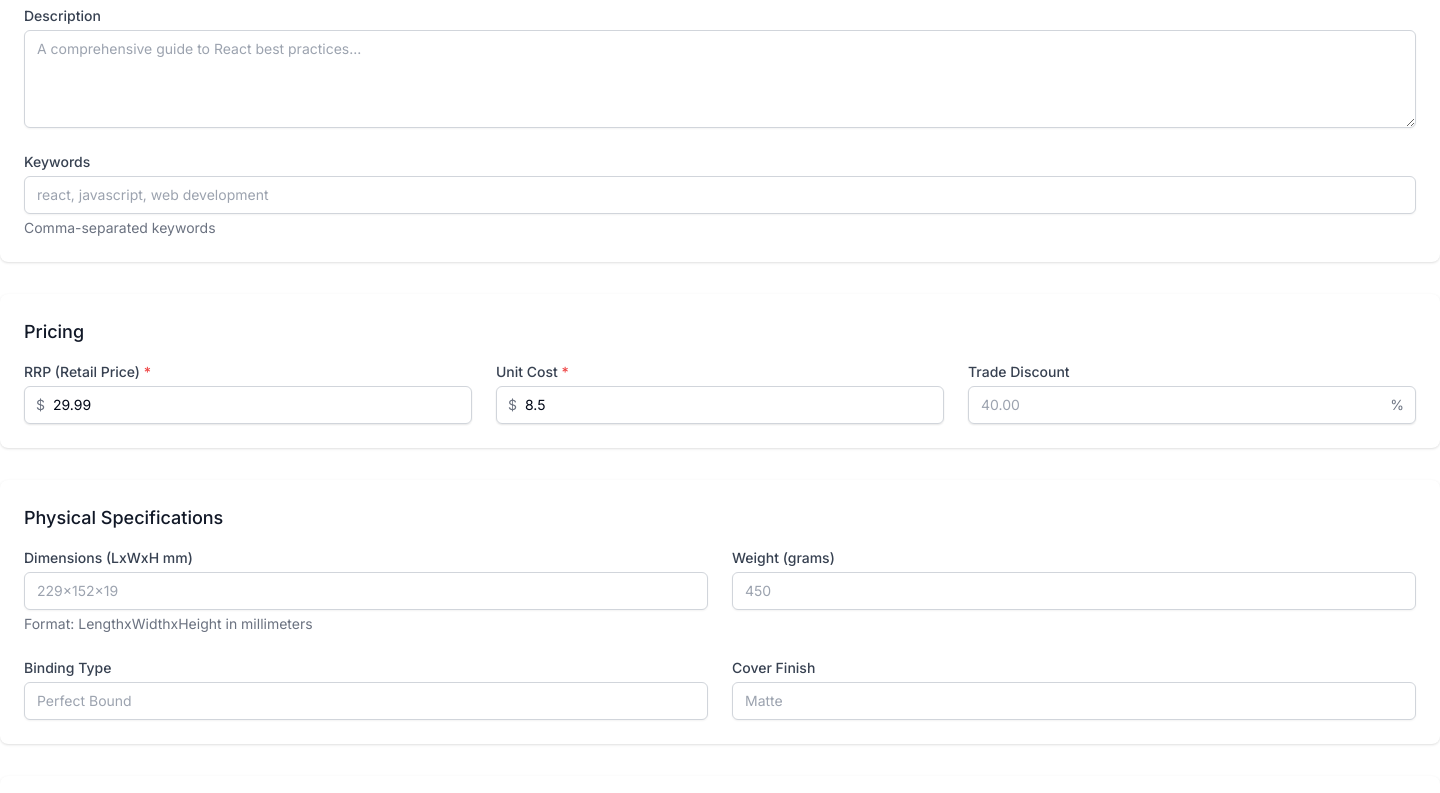
Test: TitleForm Component › Edit Mode Price Change Tracking › should show price change reason field when RRP changes
(page scrolled)
Type "34.99" into the number field labelled "RRP (Retail Price) *". click: x=248, y=405
box: [24, 386, 472, 424]
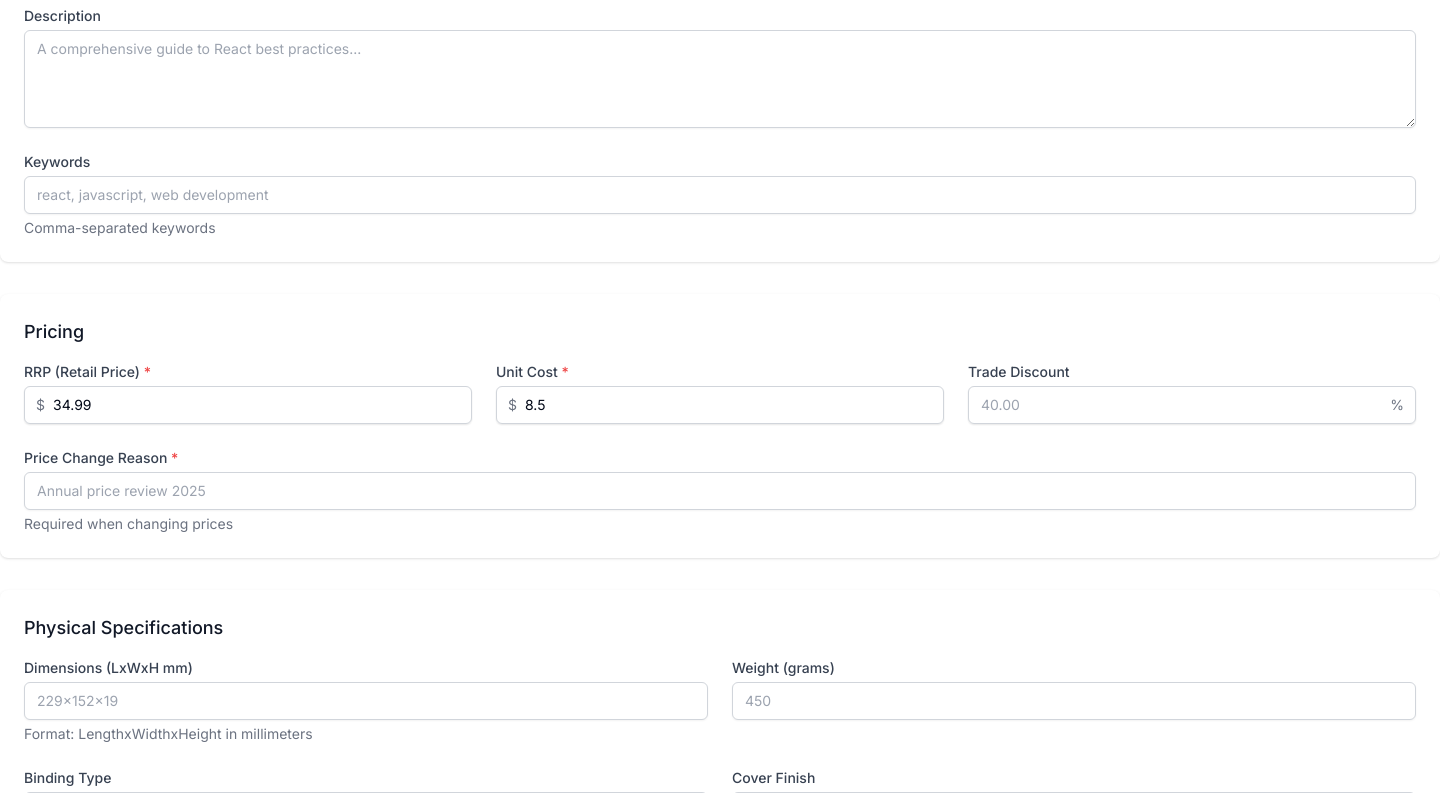
Now the field labelled "Price Change Reason *" is shown, box [24, 472, 1416, 510]
